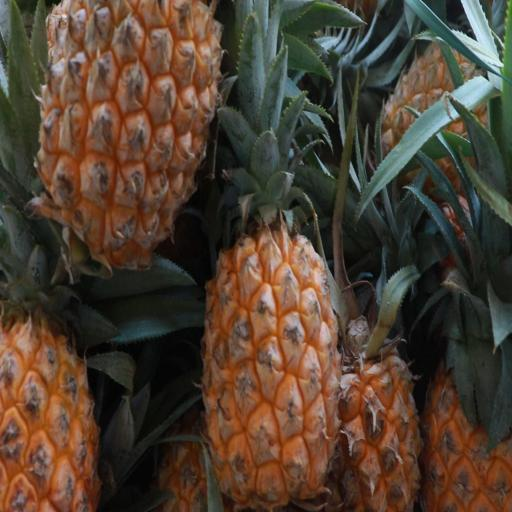Pineapple - v8 v1: (197, 151, 348, 512), (32, 0, 222, 275), (421, 187, 512, 512), (326, 295, 427, 512), (2, 302, 104, 512)
